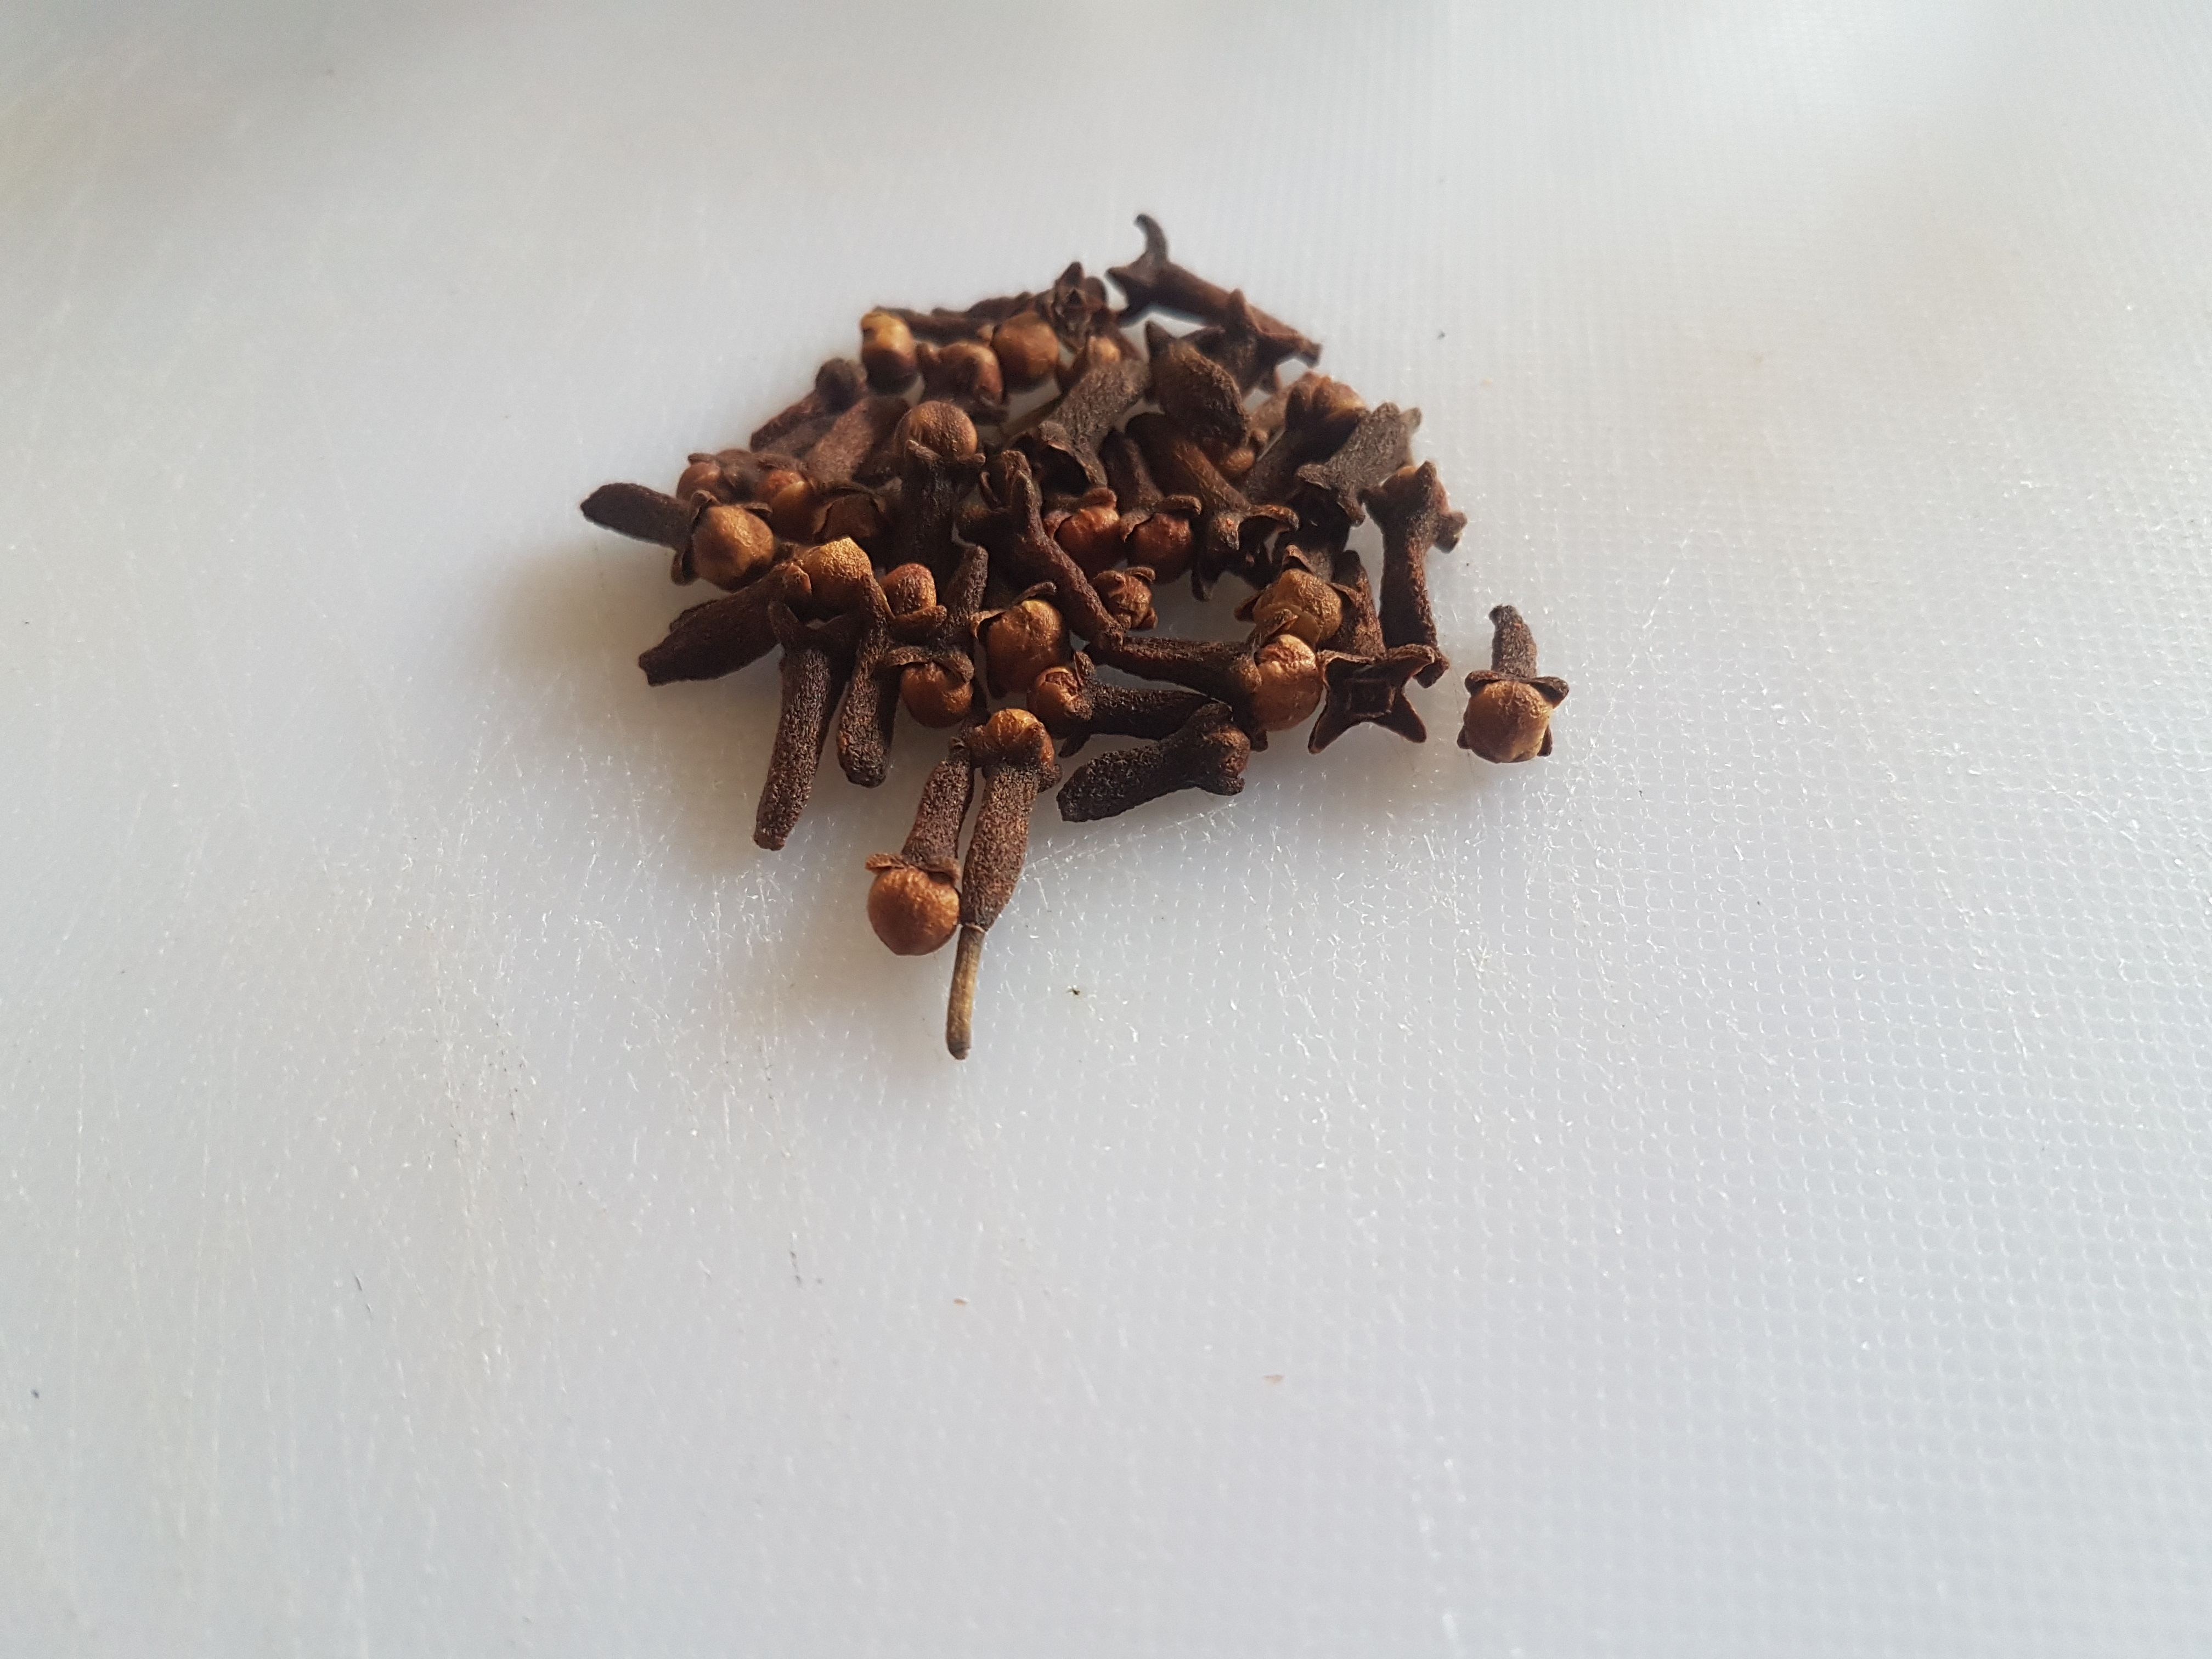Cloves: (545, 202, 1585, 1066)
